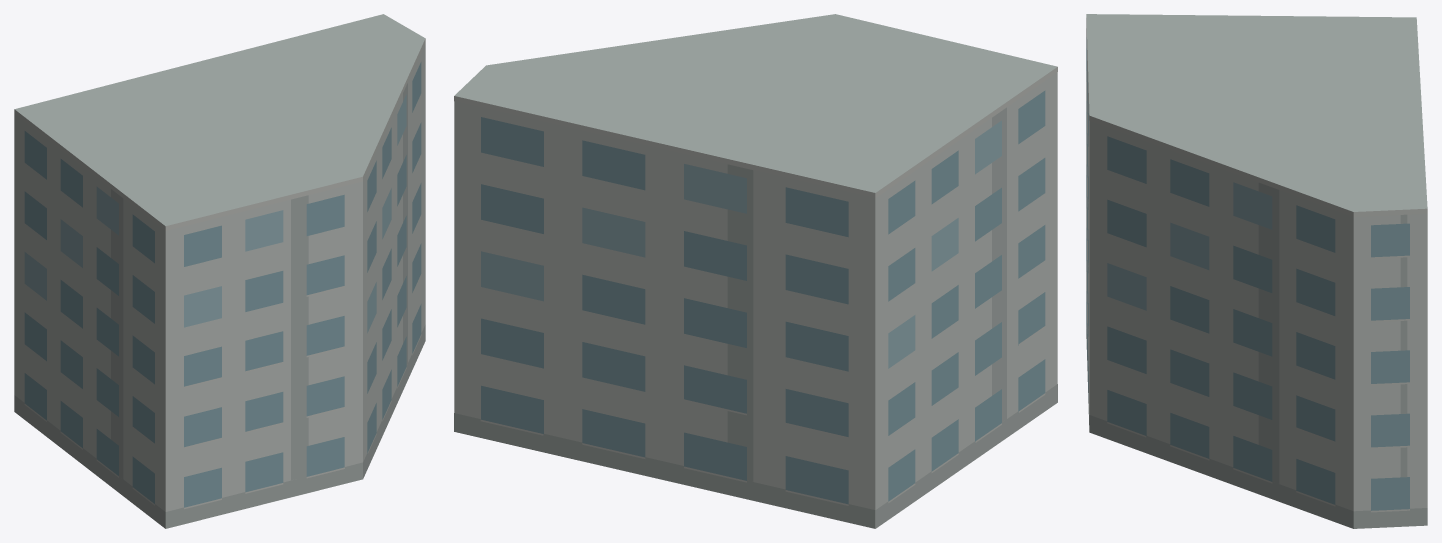
File: survey-upis-32459272.glb
3 renders of one model, left to right at view 1: azimuth 30°, elevation 25°; view 2: azimuth 150°, elevation 25°; view 3: azimuth 270°, elevation 25°, orthographic. The views are drawn at different scales.
Parts seen in each view (by area): view 1: survey-upis-32459272.tmp; view 2: survey-upis-32459272.tmp; view 3: survey-upis-32459272.tmp.
Boxes of the visible parts, <box> form: survey-upis-32459272.tmp: <box>14,14,425,528</box>; survey-upis-32459272.tmp: <box>454,14,1057,528</box>; survey-upis-32459272.tmp: <box>1086,14,1427,528</box>.
Size of the model in its own units: 20.45 by 15.25 by 14.89.
